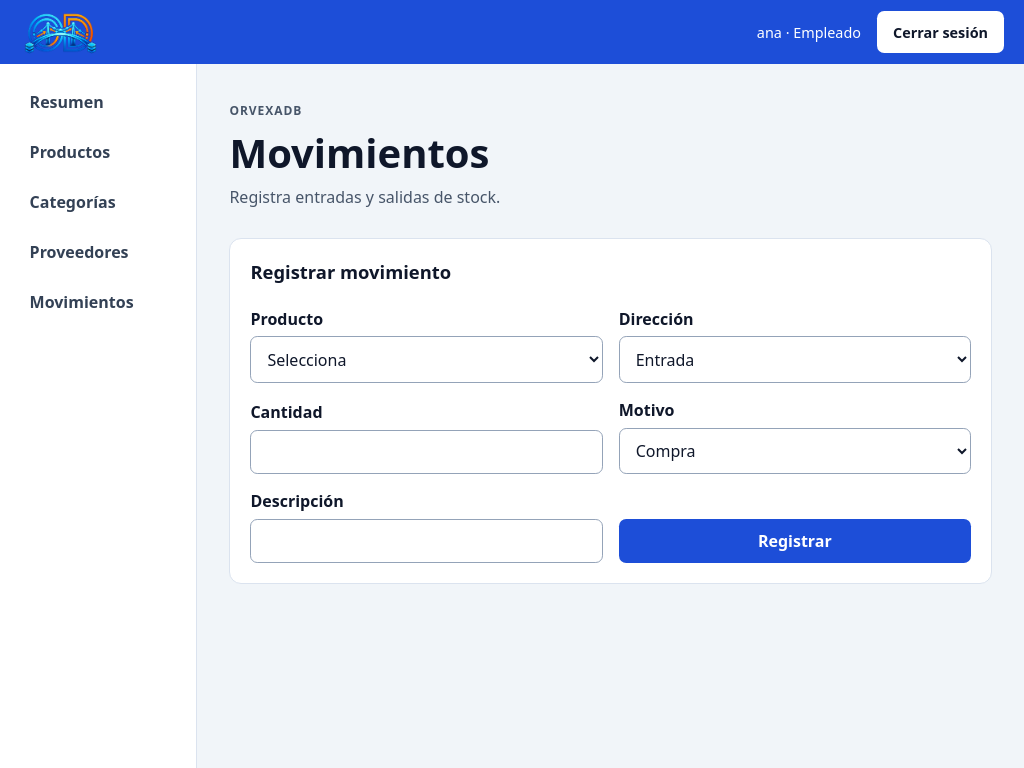
Test: flujos de aplicación › muestra la descripción del movimiento creado
Check: the heading "Movimientos" is shown, box [229,125,500,180]
Select "p1" in the dropdown labelled "Producto" at (427, 360), box [250,336,603,383]
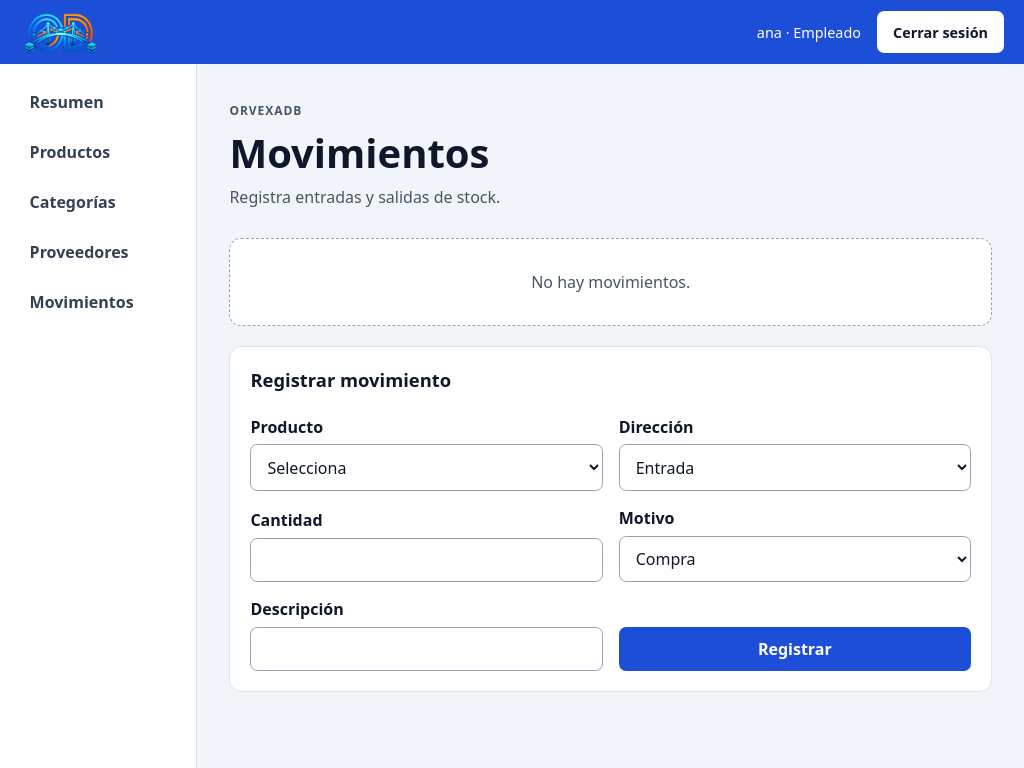
Type "4" into the number field labelled "Cantidad" at (427, 560), box [250,538,603,582]
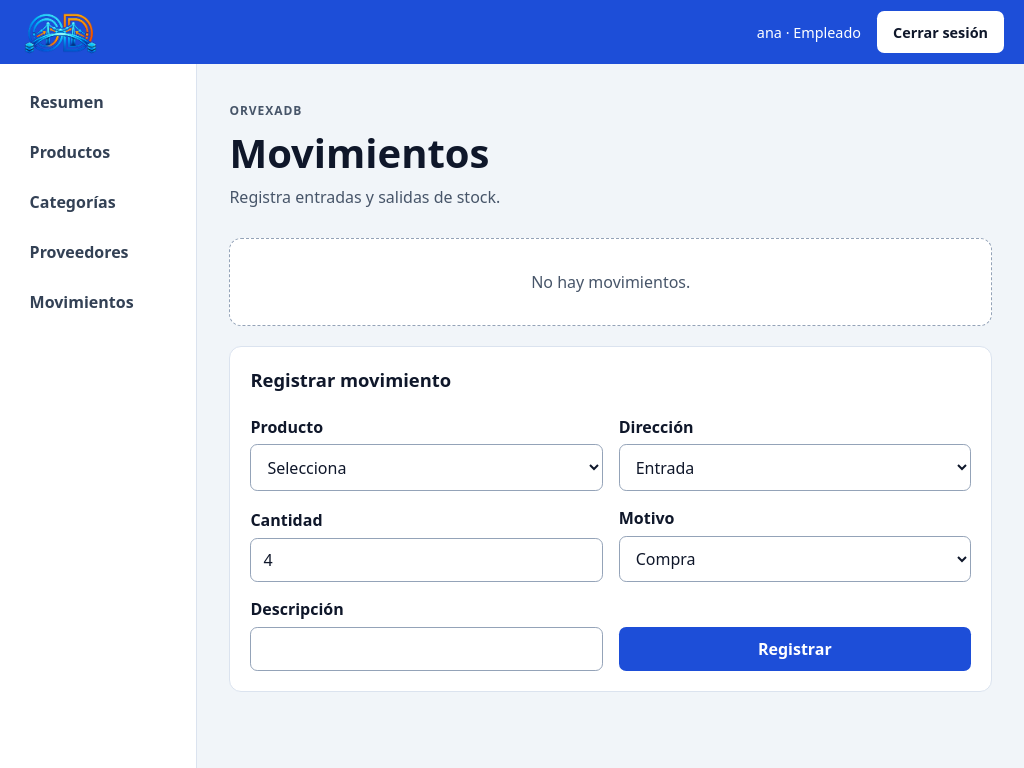
Type "Entrada aislada" into the field labelled "Descripción" at (427, 649), box [250,627,603,672]
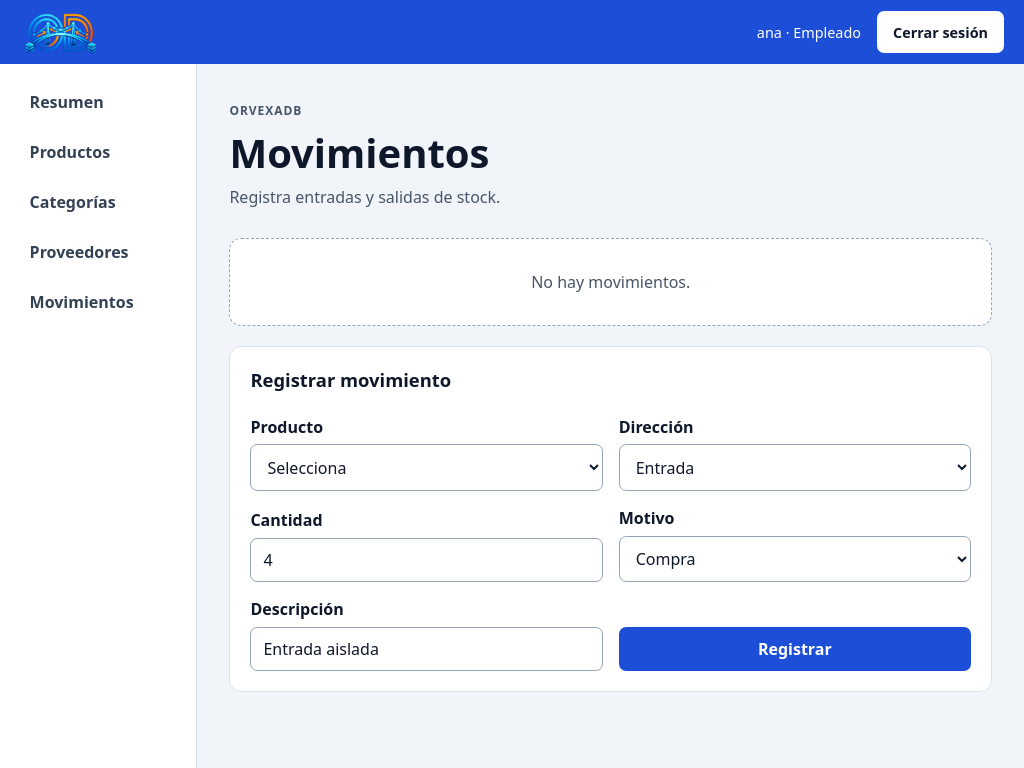
Submit the form "Registrar", box [250,416,971,672]
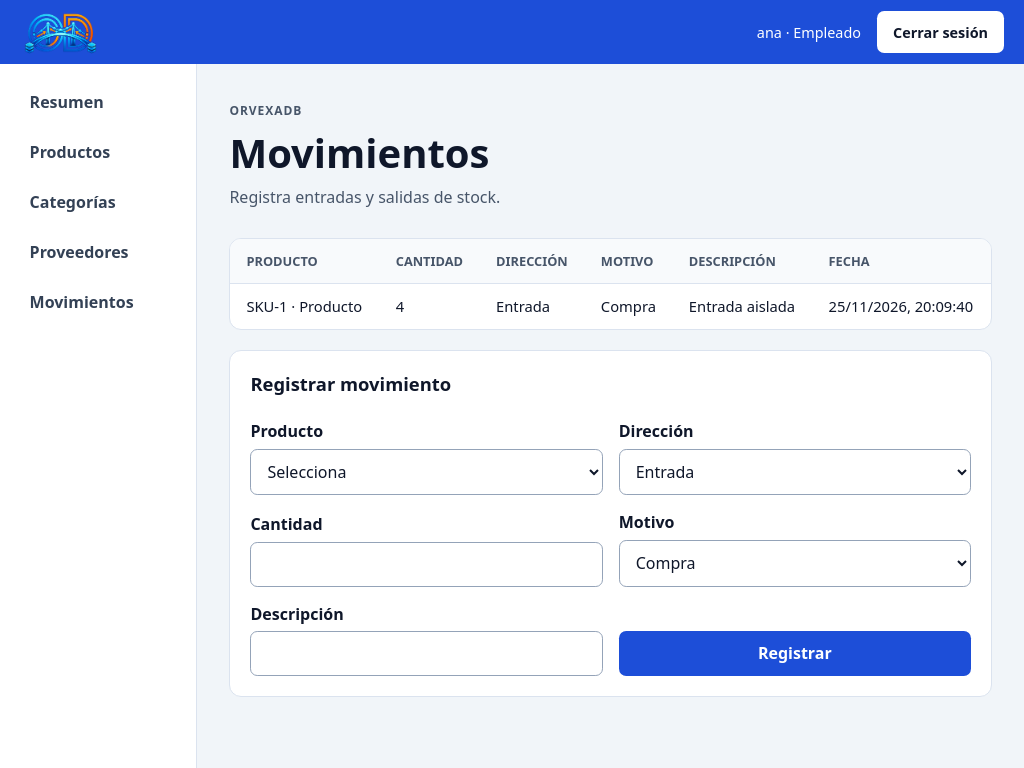
Check: the cell "Entrada aislada" is shown, box [673,283,813,329]
